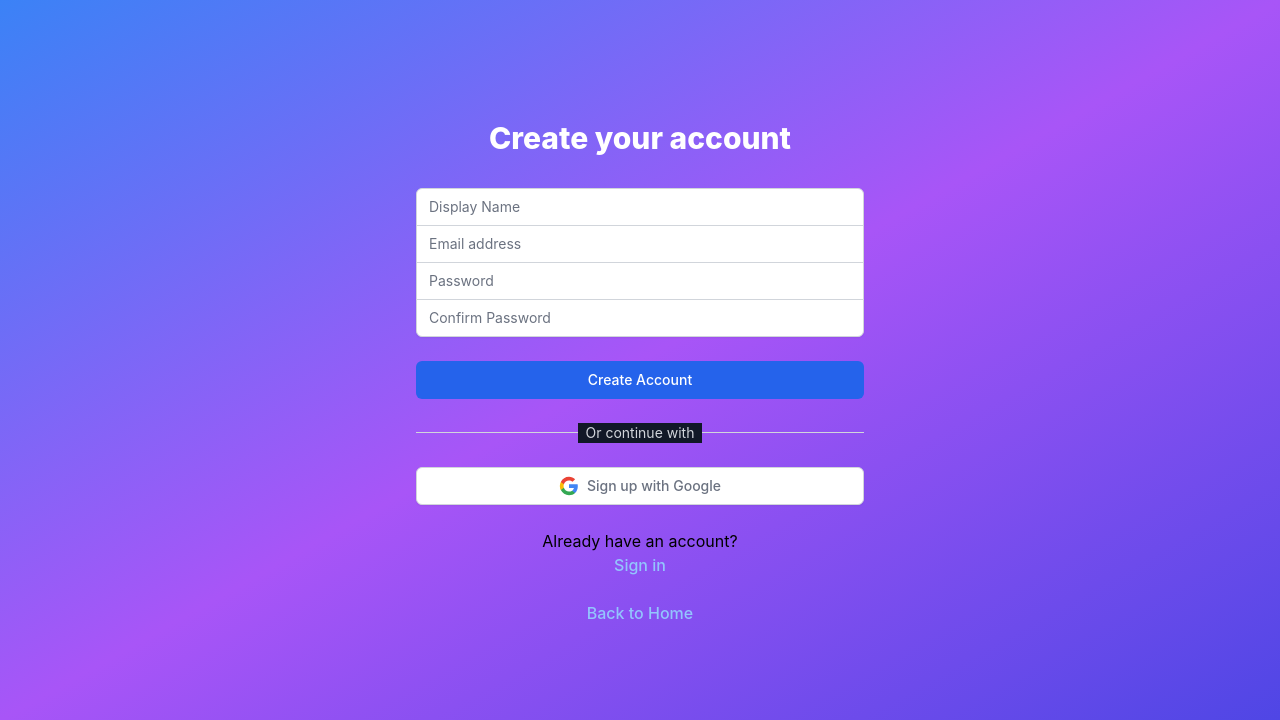
Test: Register Page › Form Validation › shows error for empty email submission
In the field with placeholder "Display Name": {"x": 640, "y": 206} [416, 188, 864, 226], type "John Doe"
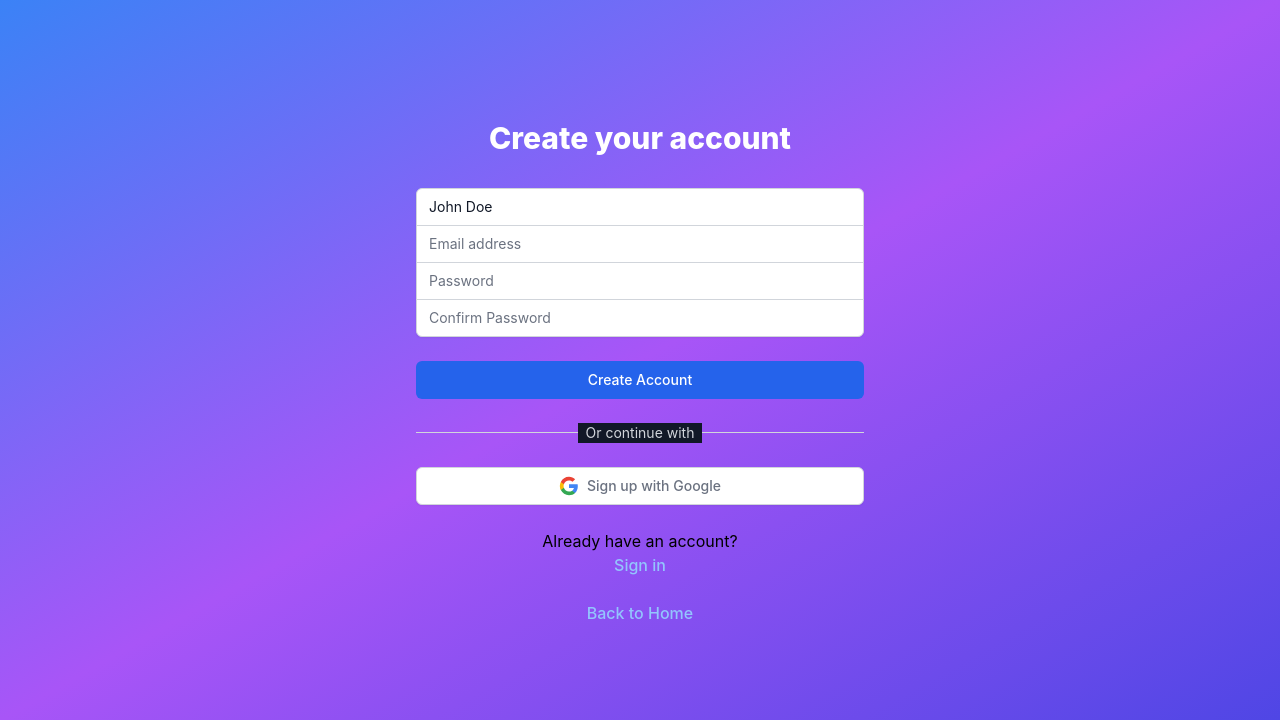
Click the button "Create Account": {"x": 640, "y": 380} [416, 360, 864, 398]
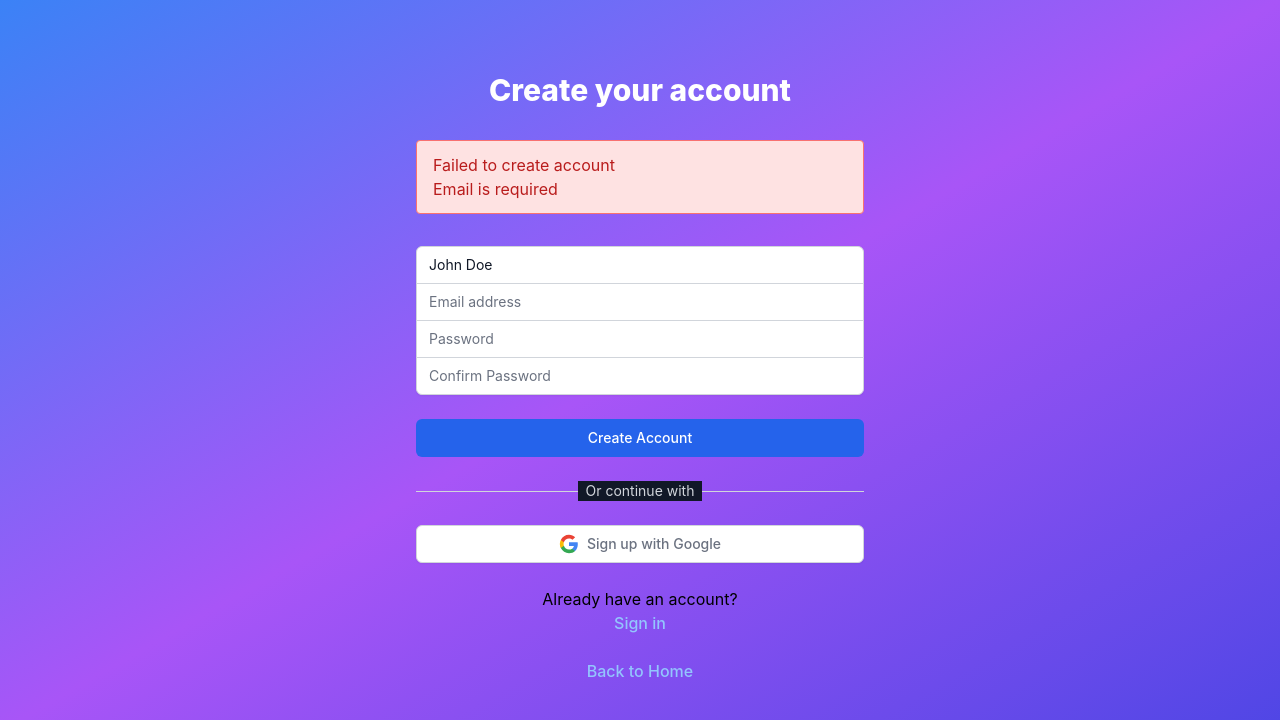
Result: the text "Failed to create account" is shown at [433, 155, 615, 175]
Result: the text "Email is required" is shown at [433, 179, 558, 199]
